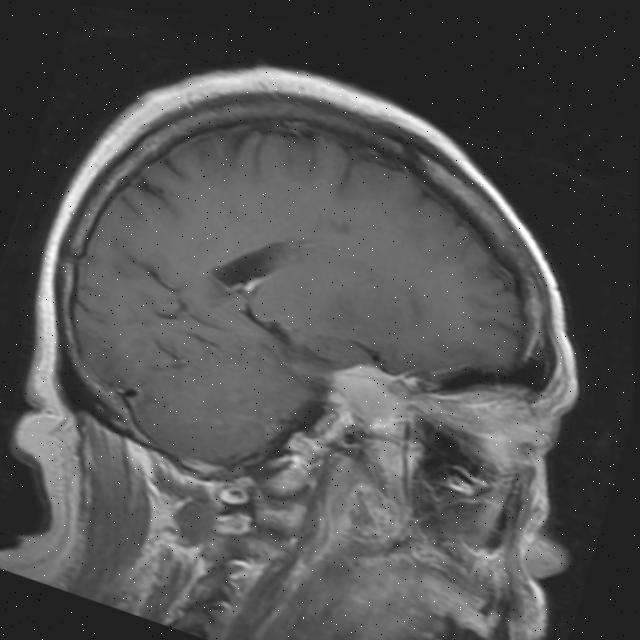Meningioma: (321, 350, 412, 437)
